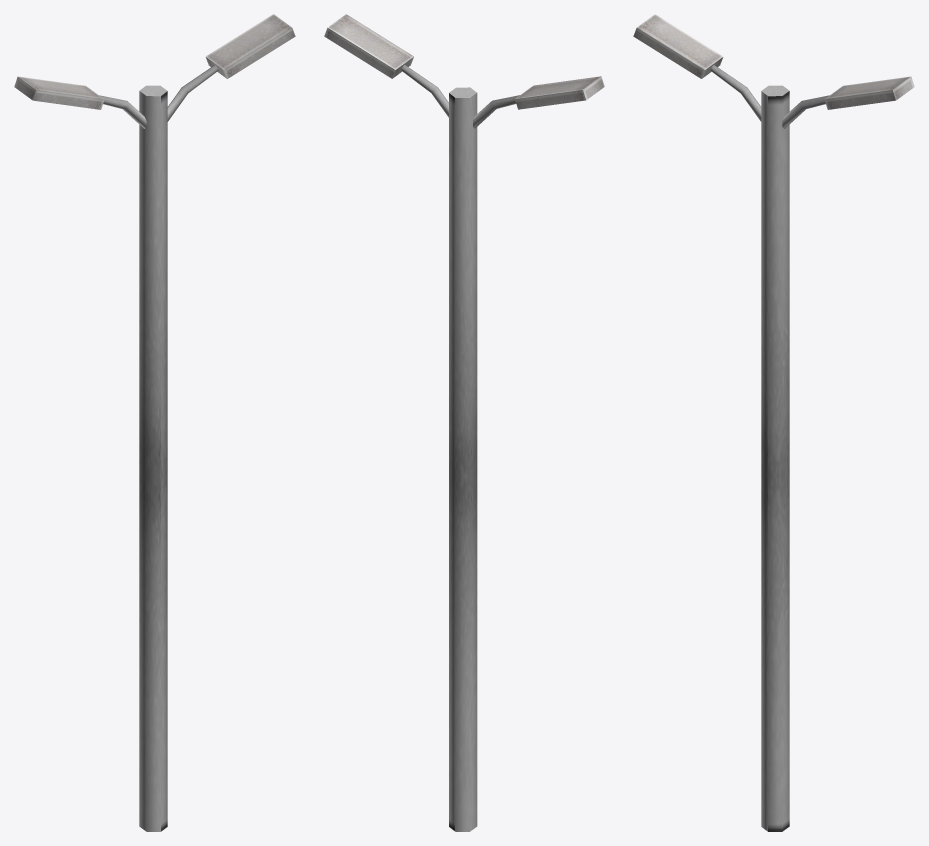
Rendered from light_A.FBX.
3 renders of one model, left to right at view 1: azimuth 30°, elevation 25°; view 2: azimuth 150°, elevation 25°; view 3: azimuth 330°, elevation 25°, orthographic.
Parts seen in each view (by area): view 1: light_A; view 2: light_A; view 3: light_A.
Boxes of the visible parts, <box> form: light_A: <box>14,14,295,831</box>; light_A: <box>324,14,604,831</box>; light_A: <box>633,14,914,831</box>.
Size of the model in its own units: 174 by 490 by 21.31.
